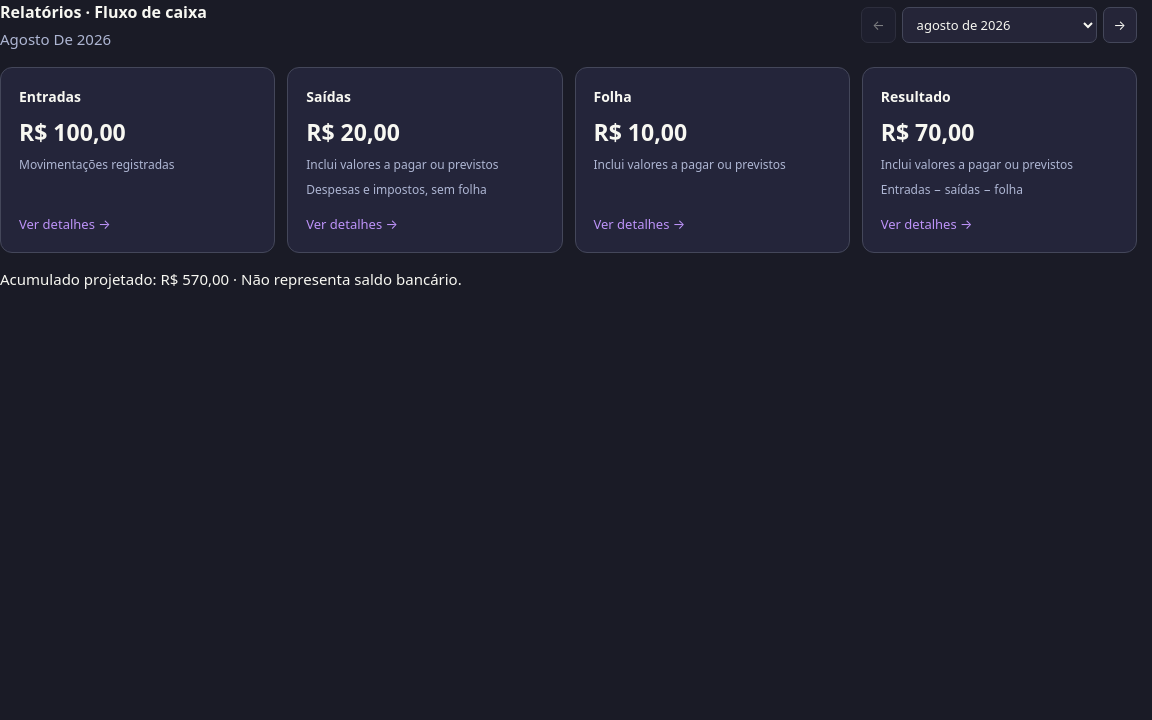
Test case: navega até o último mês futuro e abre seus movimentos sem nova consulta
Expected: the dropdown named "Mês da projeção" is shown, x1=902 y1=7 x2=1097 y2=43
Expected: the button named "Mês anterior" is disabled, x1=861 y1=7 x2=896 y2=43
Step 1. Click the button named "Mês seguinte" → [1120, 25], box x1=1103 y1=7 x2=1137 y2=43
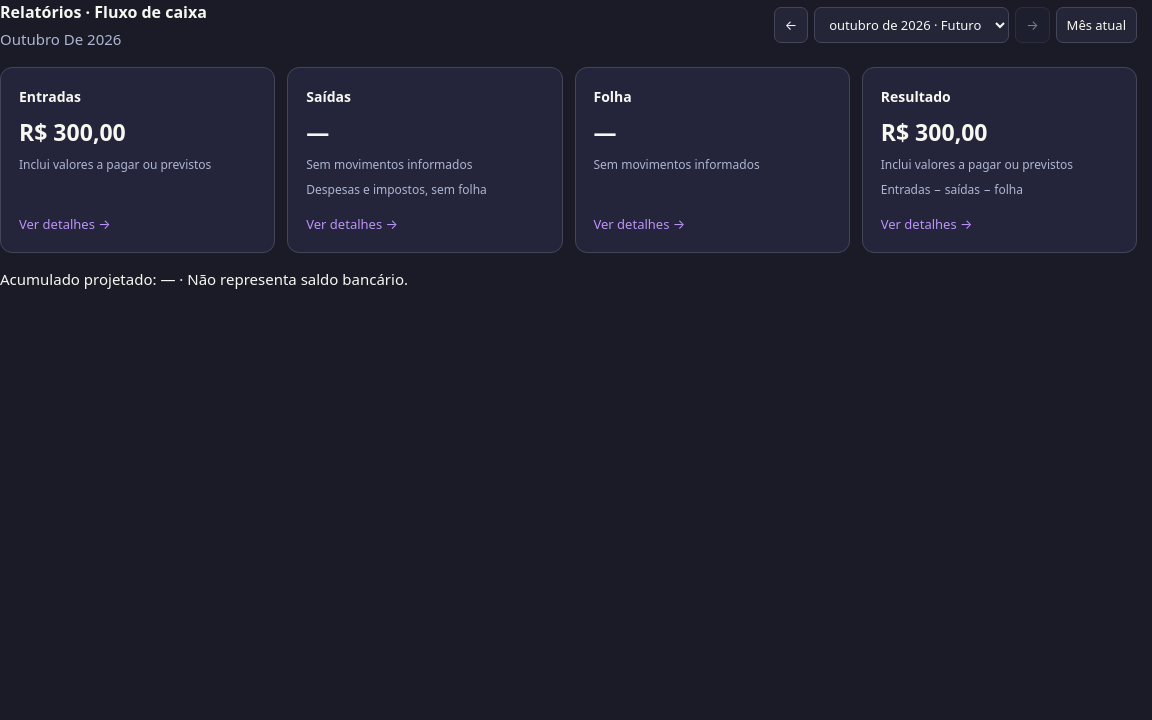
Expected: the button named "Mês seguinte" is disabled, x1=1015 y1=7 x2=1050 y2=43
Result: the dropdown shows "outubro de 2026 · Futuro" at x1=814 y1=7 x2=1009 y2=43
Step 2. Click the button with aria-label "Ver entradas" → [138, 160], box x1=0 y1=66 x2=275 y2=253
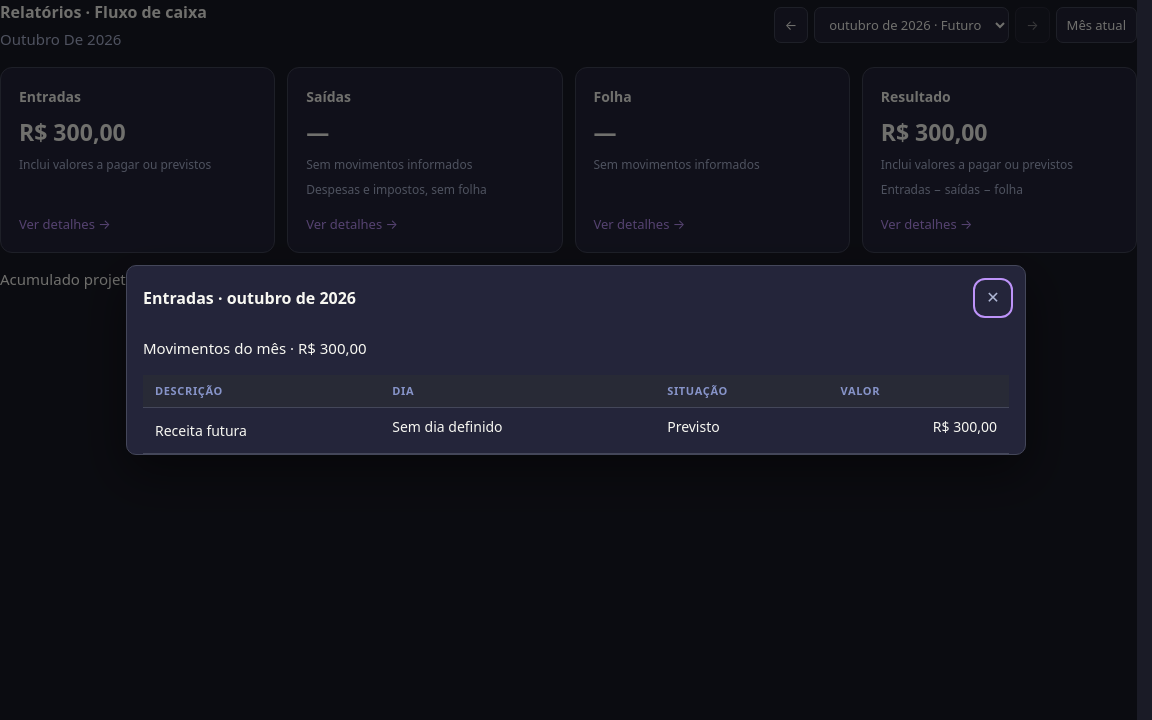
Result: the dialog shows "Receita futura" at x1=155 y1=421 x2=247 y2=440
Result: the dialog shows "Previsto" at x1=667 y1=417 x2=720 y2=436
Step 3. Press Escape
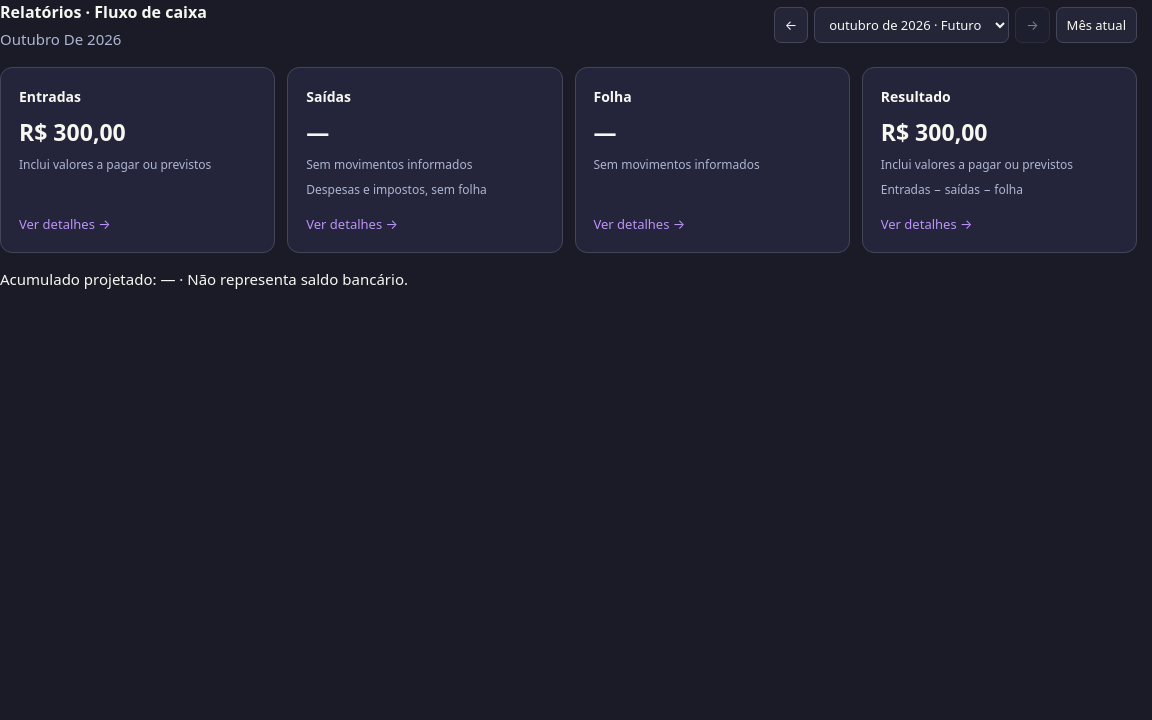
Step 4. Click the button "Mês atual" → [1096, 25], box x1=1056 y1=7 x2=1137 y2=43
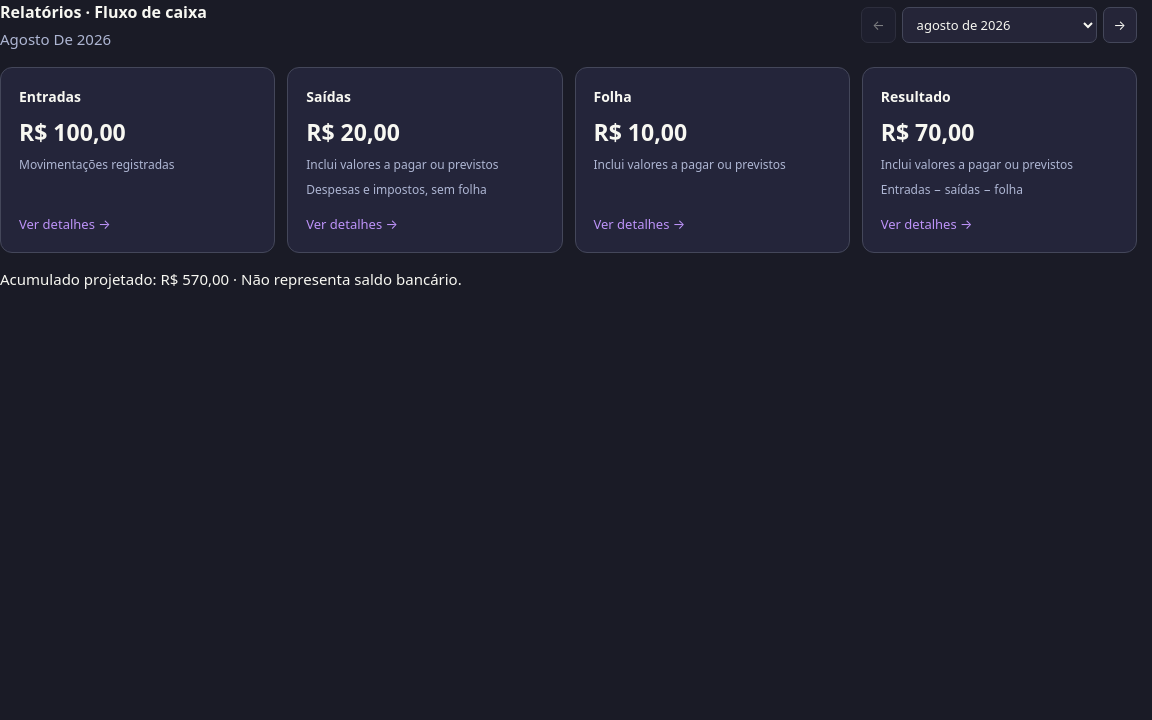
Result: the dropdown shows "agosto de 2026" at x1=902 y1=7 x2=1097 y2=43
